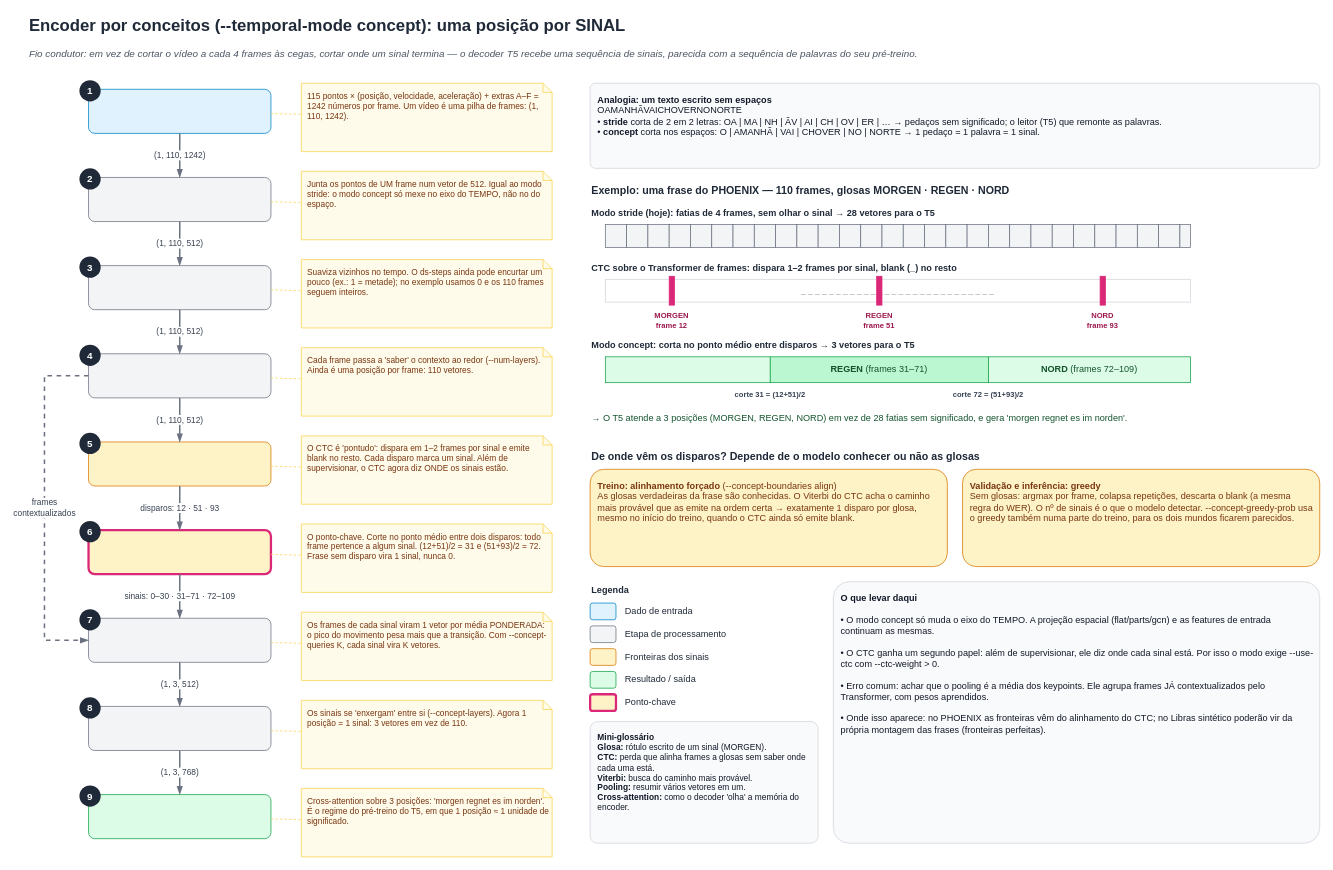
Image size: 1333x870. Some labels were removed from this diagram. Each missing label, with the box of its shape:
Conv temporal (+ ds-steps opcional): (88, 265, 271, 310)
Cortar no meio entre disparos: (87, 529, 272, 575)
Decoder T5 gera a frase: (88, 794, 271, 839)
Head CTC: onde está cada sinal?: (88, 441, 271, 486)
Keypoints de cada frame: (88, 89, 271, 133)
MORGEN (frames 0–30): (605, 356, 770, 383)
Pooling por sinal: (88, 618, 271, 662)
Projeção espacial flat | parts | gcn: (88, 177, 271, 222)
Transformer de CONCEITOS: (88, 706, 271, 750)
Transformer de FRAMES: (88, 353, 271, 398)
